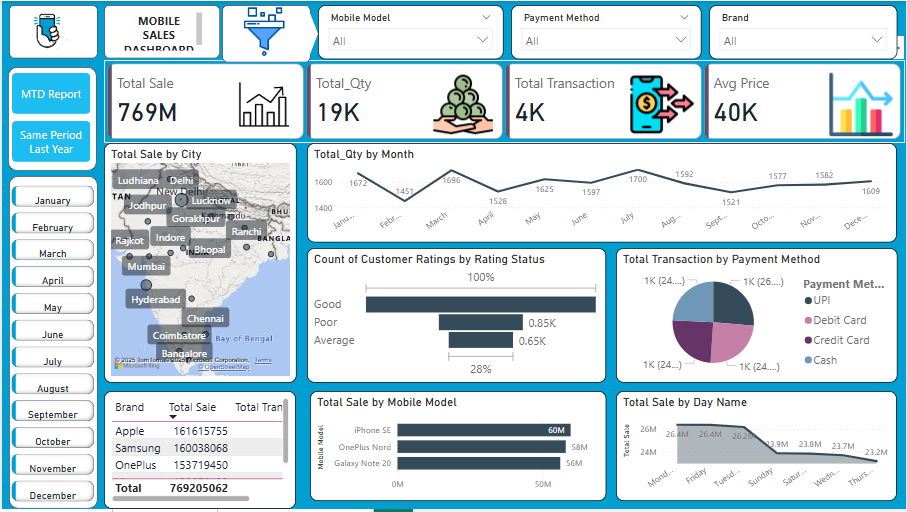

This screenshot's page, from the dashboard's own definition file:
{"tool":"powerbi","page":{"name":"Mobile Dashboard","canvas":[1280,720],"ordinal":0},"visuals":[{"type":"shape","box":[10,5.7,125.7,75.7],"z":0},{"type":"image","box":[26,5,77,77],"z":1000},{"type":"shape","box":[8.6,92.9,125.7,147.1],"z":2000},{"type":"shape","box":[10,248.6,125.7,471.4],"z":3000},{"type":"advancedSlicerVisual","fields":{"Values":["Custom Calender.Date.Variation.Date Hierarchy.Month"]},"box":[8.5,256.5,127.6,462],"z":4000},{"type":"cardVisual","fields":{"Data":["Mobile_sale_Dashboard.Total Sale","Mobile_sale_Dashboard.Total_Qty","Mobile_sale_Dashboard.Total Transaction","Mobile_sale_Dashboard.Avg Price"]},"box":[144.3,84.3,1135.7,117.1],"z":5000},{"type":"slicer","fields":{"Values":["Mobile_sale_Dashboard.Mobile Model"]},"box":[448.6,5.7,262.9,77.1],"z":6000},{"type":"slicer","fields":{"Values":["Mobile_sale_Dashboard.Payment Method"]},"box":[721.4,5.7,270,77.1],"z":7000},{"type":"slicer","fields":{"Values":["Mobile_sale_Dashboard.Brand"]},"box":[1001.4,5.7,267.1,77.1],"z":8000},{"type":"shape","box":[311.4,5.7,125.7,81.4],"z":9000},{"type":"image","box":[288.6,2.9,165.7,81.4],"z":10000},{"type":"shape","box":[417.1,5.7,31.4,81.4],"z":11000},{"type":"shape","box":[144.3,5.7,164.3,75.7],"z":12000},{"type":"textbox","box":[164.3,11.4,124.3,64.3],"z":13000},{"type":"map","fields":{"Category":["Mobile_sale_Dashboard.City"],"Size":["Mobile_sale_Dashboard.Total Sale"]},"box":[144.3,201.4,272.9,340],"z":14000},{"type":"lineChart","fields":{"Category":["Custom Calender.Date.Variation.Date Hierarchy.Month"],"Y":["Mobile_sale_Dashboard.Total_Qty"]},"box":[432.9,201.4,835.7,141.4],"z":15000},{"type":"funnel","fields":{"Y":["CountNonNull(Mobile_sale_Dashboard.Customer Ratings)"],"Category":["Mobile_sale_Dashboard.Rating Status"]},"box":[432.9,350,424.3,191.4],"z":16000},{"type":"pieChart","fields":{"Category":["Mobile_sale_Dashboard.Payment Method"],"Y":["Mobile_sale_Dashboard.Total Transaction"]},"box":[870,350,398.6,191.4],"z":17000},{"type":"clusteredBarChart","fields":{"Y":["Mobile_sale_Dashboard.Total Sale"],"Category":["Mobile_sale_Dashboard.Mobile Model"]},"box":[437.1,552.9,420,155.7],"z":18000},{"type":"areaChart","fields":{"Y":["Mobile_sale_Dashboard.Total Sale"],"Category":["Custom Calender.Day Name"]},"box":[870.2,552.8,398.3,155.9],"z":19000},{"type":"tableEx","fields":{"Values":["Mobile_sale_Dashboard.Brand","Mobile_sale_Dashboard.Total Sale","Mobile_sale_Dashboard.Total Transaction"]},"box":[144.6,552.8,272.1,167.2],"z":20000},{"type":"pageNavigator","box":[14.2,102,112,126.1],"z":20001}]}

Visuals, with their boxes in screenshot pixels (x1, y1, x2, y2), scaled from the page's 1280x720 canvas onto the 907x512 screenshot:
shape: crop(7, 4, 96, 58)
image: crop(18, 4, 73, 58)
shape: crop(6, 66, 95, 171)
shape: crop(7, 177, 96, 511)
advancedSlicerVisual - Custom Calender.Date.Variation.Date Hierarchy.Month: crop(6, 182, 96, 511)
cardVisual - Mobile_sale_Dashboard.Total Sale x Mobile_sale_Dashboard.Total_Qty: crop(102, 60, 906, 143)
slicer - Mobile_sale_Dashboard.Mobile Model: crop(318, 4, 504, 59)
slicer - Mobile_sale_Dashboard.Payment Method: crop(511, 4, 702, 59)
slicer - Mobile_sale_Dashboard.Brand: crop(710, 4, 899, 59)
shape: crop(221, 4, 310, 62)
image: crop(205, 2, 322, 60)
shape: crop(296, 4, 318, 62)
shape: crop(102, 4, 219, 58)
textbox: crop(116, 8, 205, 54)
map - Mobile_sale_Dashboard.City x Mobile_sale_Dashboard.Total Sale: crop(102, 143, 296, 385)
lineChart - Custom Calender.Date.Variation.Date Hierarchy.Month x Mobile_sale_Dashboard.Total_Qty: crop(307, 143, 899, 244)
funnel - CountNonNull(Mobile_sale_Dashboard.Customer Ratings) x Mobile_sale_Dashboard.Rating Status: crop(307, 249, 607, 385)
pieChart - Mobile_sale_Dashboard.Payment Method x Mobile_sale_Dashboard.Total Transaction: crop(616, 249, 899, 385)
clusteredBarChart - Mobile_sale_Dashboard.Total Sale x Mobile_sale_Dashboard.Mobile Model: crop(310, 393, 607, 504)
areaChart - Mobile_sale_Dashboard.Total Sale x Custom Calender.Day Name: crop(617, 393, 899, 504)
tableEx - Mobile_sale_Dashboard.Brand x Mobile_sale_Dashboard.Total Sale: crop(102, 393, 295, 511)
pageNavigator: crop(10, 73, 89, 162)
